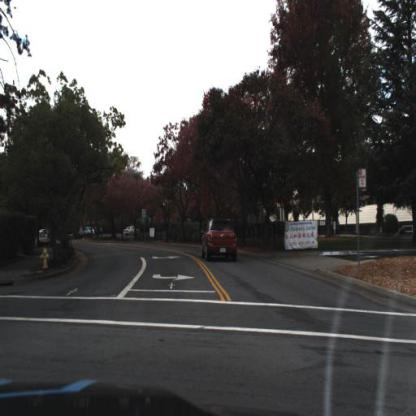car: (201, 220, 241, 266), (80, 226, 97, 242), (125, 227, 142, 241)
